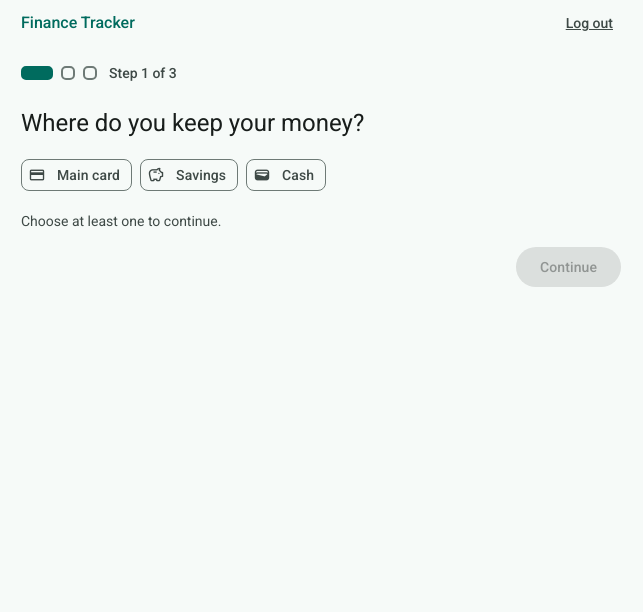
OnboardingComponent › step 2: budgets › saves the filled-in limits for the current month on Continue
The image size is (643, 612).
Step 1. Click the option "Main card" → x=77, y=175, box x1=21 y1=159 x2=132 y2=191
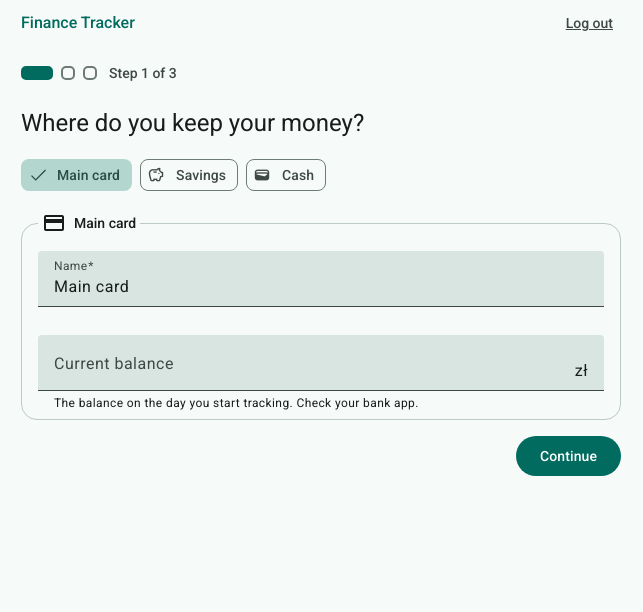
Step 2. Click the button "Continue" → x=568, y=456, box x1=516 y1=436 x2=621 y2=476
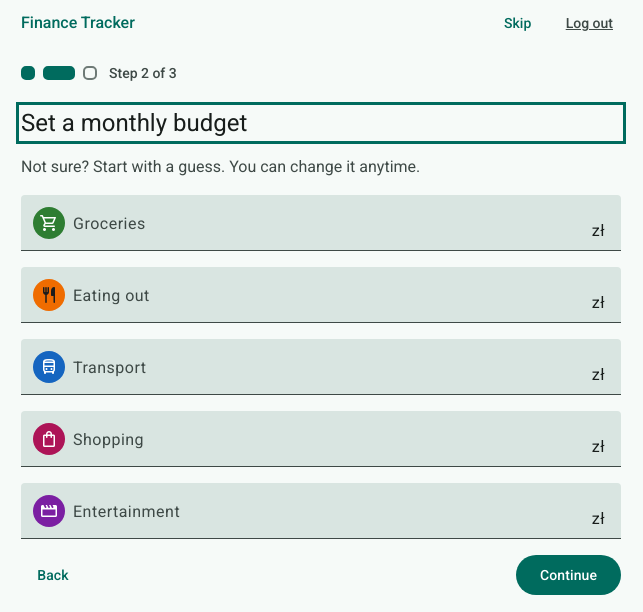
Step 3. Type "1 200" into the field labelled "Groceries" → x=330, y=231, box x1=73 y1=219 x2=587 y2=243
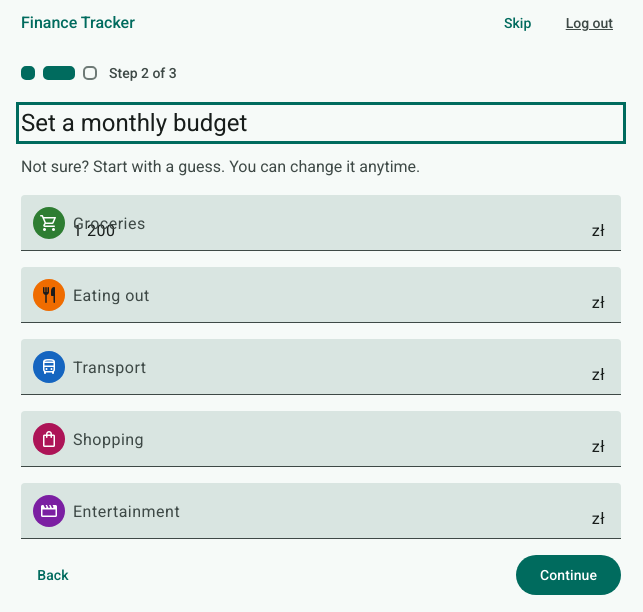
Step 4. Type "150,50" into the field labelled "Transport" → x=330, y=375, box x1=73 y1=363 x2=587 y2=387
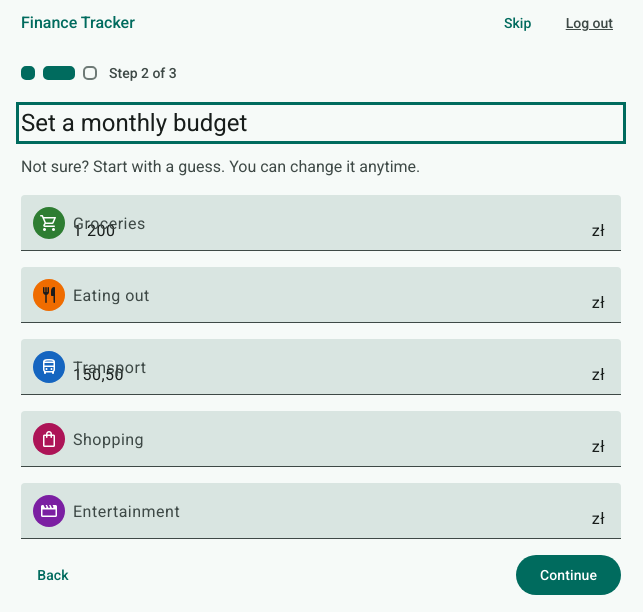
Step 5. Click the button "Continue" → x=568, y=575, box x1=516 y1=555 x2=621 y2=595
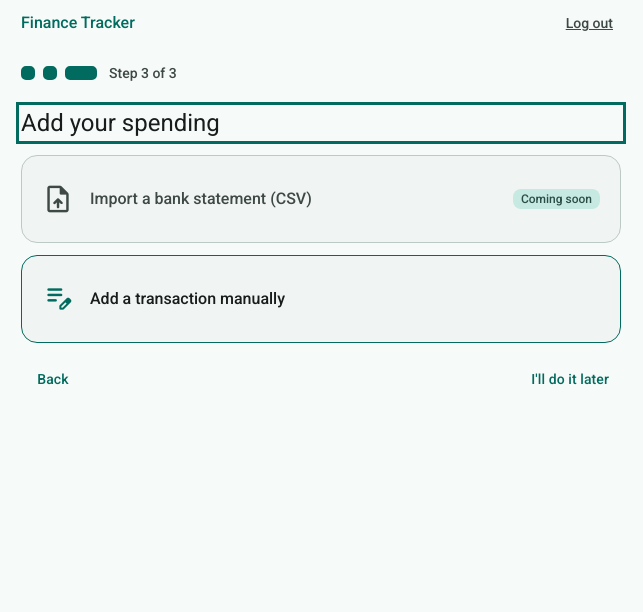
Expected: the heading "Add your spending" is shown, x1=21 y1=109 x2=220 y2=137
